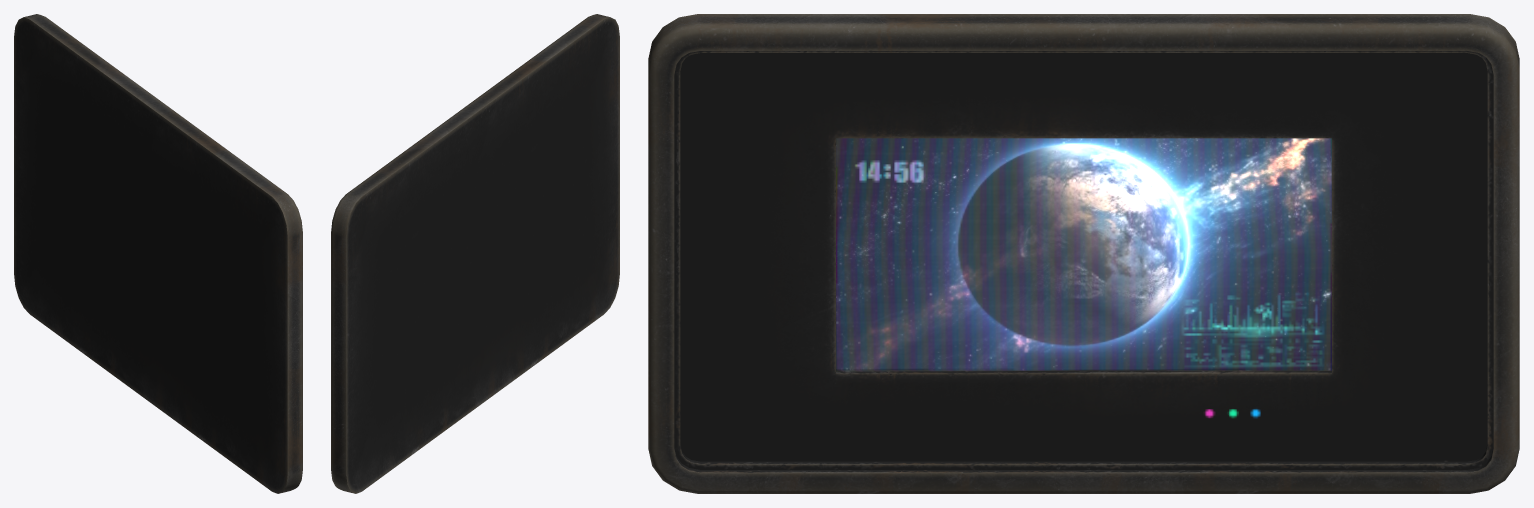
File: scifi_display_-_earth.glb
The picture shows the model from 3 angles, left to right: view 1: azimuth 30°, elevation 25°; view 2: azimuth 150°, elevation 25°; view 3: azimuth 270°, elevation 25°; orthographic projection. The views are drawn at different scales.
Parts seen in each view (by area): view 1: SM_screen; view 2: SM_screen; view 3: SM_screen.
Boxes of the visible parts, bbox=[...] form: SM_screen: bbox=[14, 14, 302, 493]; SM_screen: bbox=[331, 14, 619, 493]; SM_screen: bbox=[648, 14, 1519, 493].
Size of the model in its own units: 0.068 by 1.12 by 1.88.
Materials: 1 (1 with a texture image).
